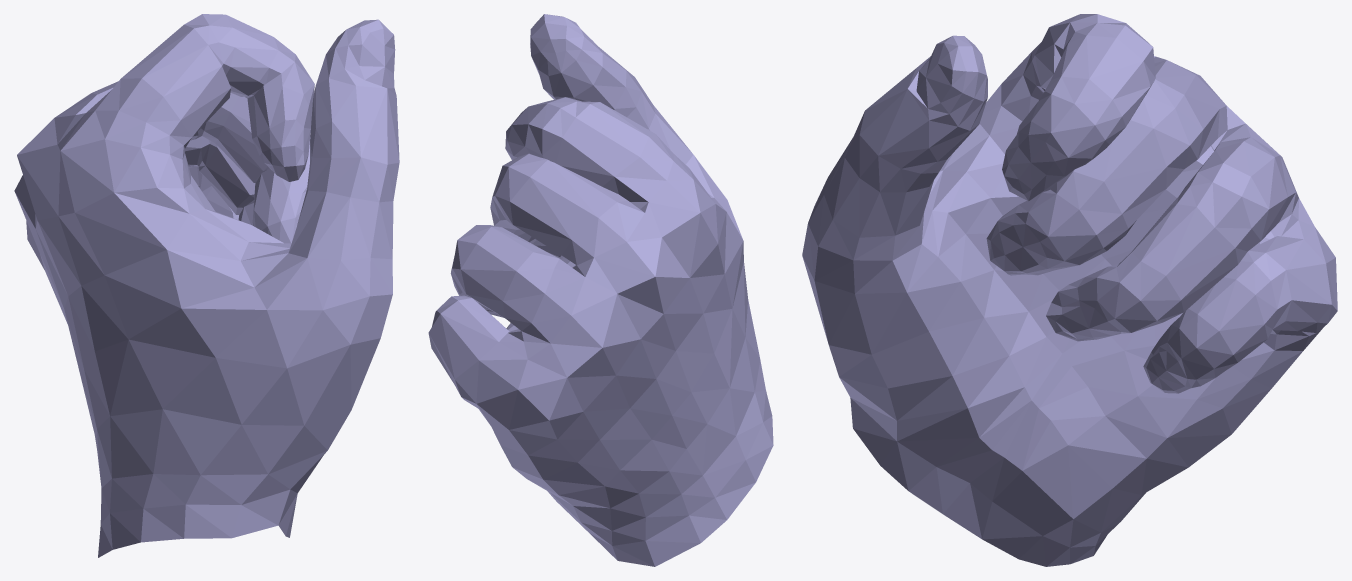
Rendered from frame_0026_source_000026_hand.glb.
3 views of the same model, side by side, from view 1: azimuth 30°, elevation 25°; view 2: azimuth 150°, elevation 25°; view 3: azimuth 270°, elevation 25° (orthographic). The views are drawn at different scales.
Visible parts, largest first — view 1: world; view 2: world; view 3: world.
Boxes of the visible parts, box(x1,y1,x2,y2) form: world: box(14, 14, 399, 557); world: box(428, 14, 773, 566); world: box(802, 14, 1337, 566).
Size of the model in its own units: 0.062 by 0.1211 by 0.1002.
